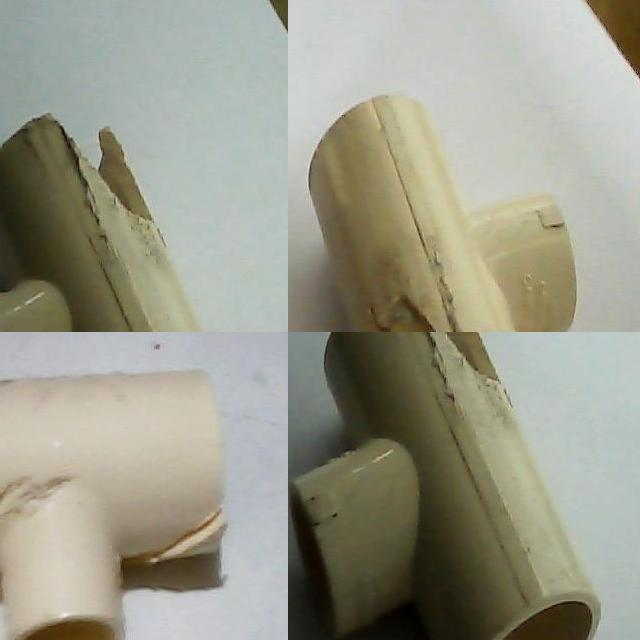Defective: (49, 107, 166, 239), (120, 488, 238, 580), (401, 332, 501, 390), (372, 295, 486, 332)
T Joint: (294, 332, 602, 640), (307, 95, 578, 332), (0, 371, 224, 640), (0, 116, 202, 332)
